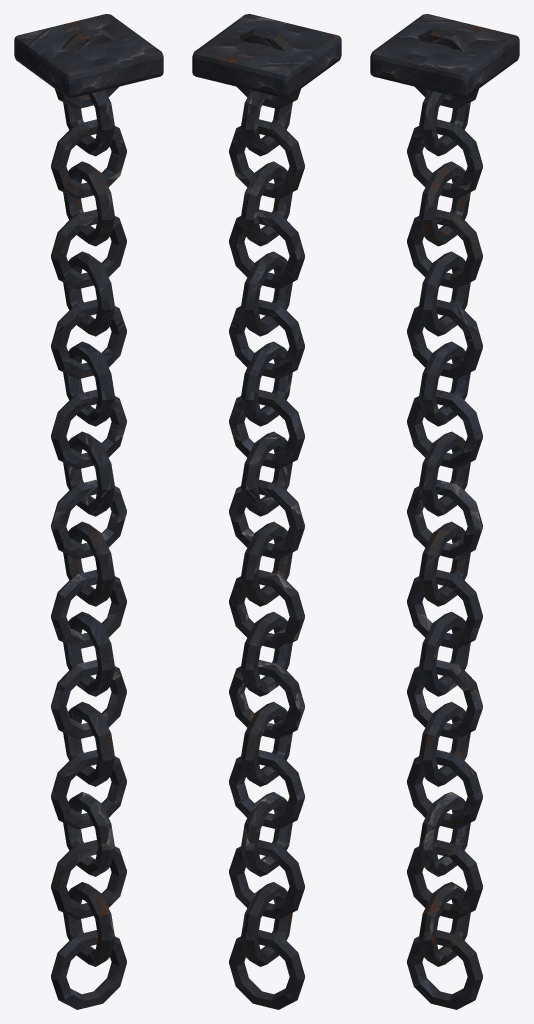
File: chain_hanging.glb
3 views of the same model, side by side, from view 1: azimuth 30°, elevation 25°; view 2: azimuth 150°, elevation 25°; view 3: azimuth 330°, elevation 25° (orthographic).
Visible parts, largest first — view 1: model; view 2: model; view 3: model.
Boxes of the visible parts, x1=… form: model: x1=14, y1=14, x2=163, y2=1009; model: x1=192, y1=14, x2=341, y2=1009; model: x1=370, y1=14, x2=519, y2=1009.
Size of the model in its own units: 0.16 by 1.53 by 0.16.
1 material, 1 textured.
